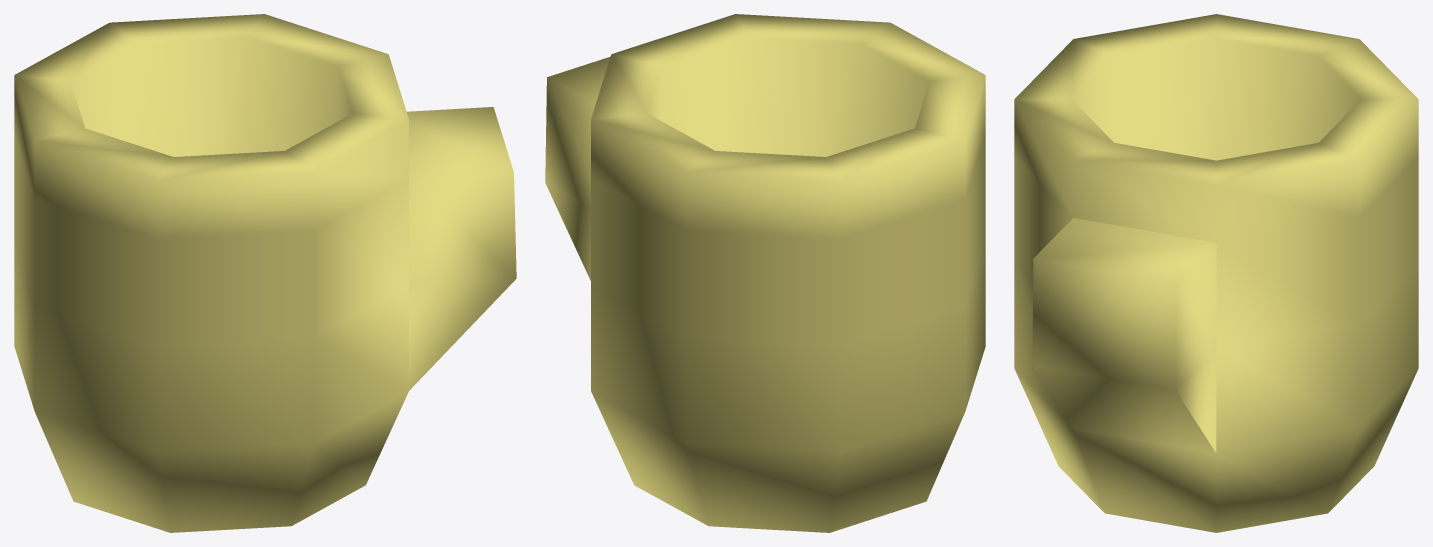
File: Mug_kitchen_v2.fbx
The picture shows the model from 3 angles, left to right: view 1: azimuth 30°, elevation 25°; view 2: azimuth 150°, elevation 25°; view 3: azimuth 270°, elevation 25°; orthographic projection.
Visible parts, largest first — view 1: Cylinder; view 2: Cylinder; view 3: Cylinder.
Part boxes in pixels (<box>): Cylinder: <box>14,14,516,532</box>; Cylinder: <box>545,14,985,532</box>; Cylinder: <box>1014,14,1418,532</box>.
Size of the model in its own units: 21.42 by 17.2 by 17.2.
